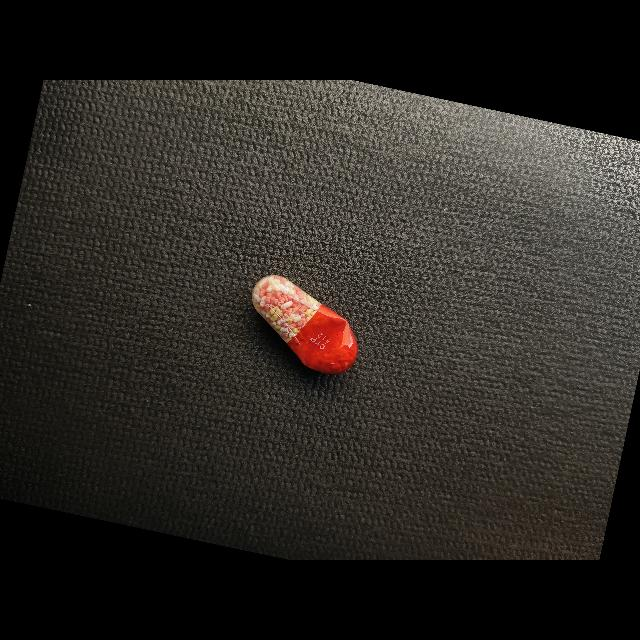Defective Capsule: (252, 275, 358, 374)
